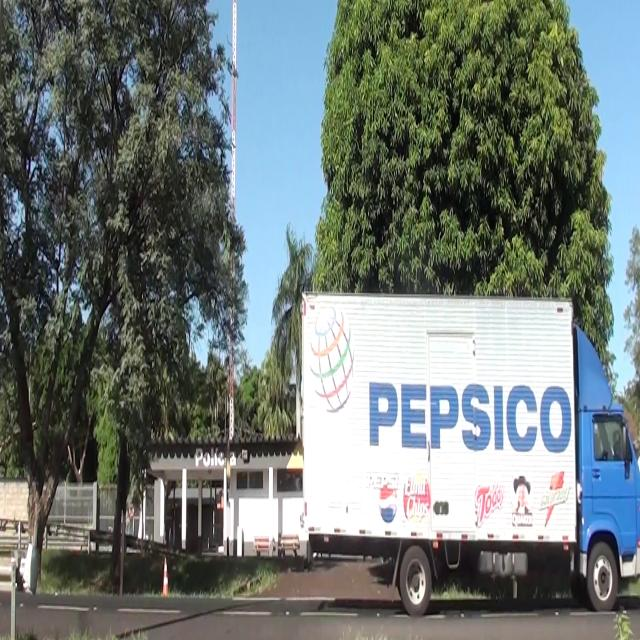-axle: (399, 544, 434, 614), (587, 544, 616, 608)
